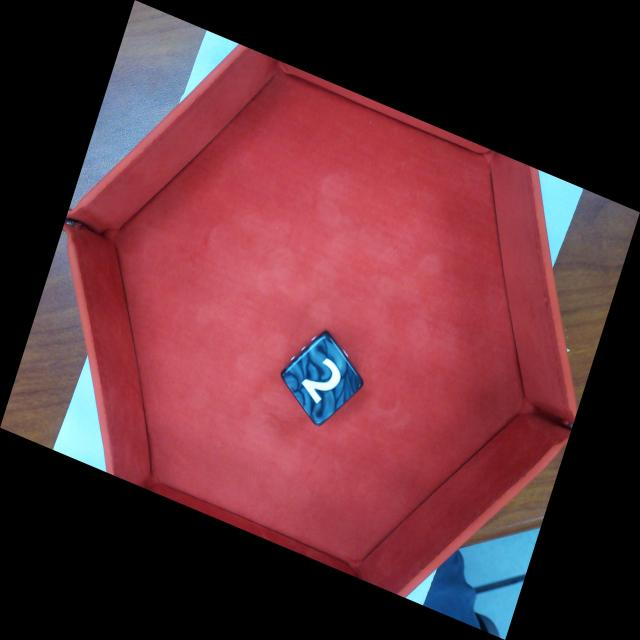dice: (279, 330, 365, 430)
